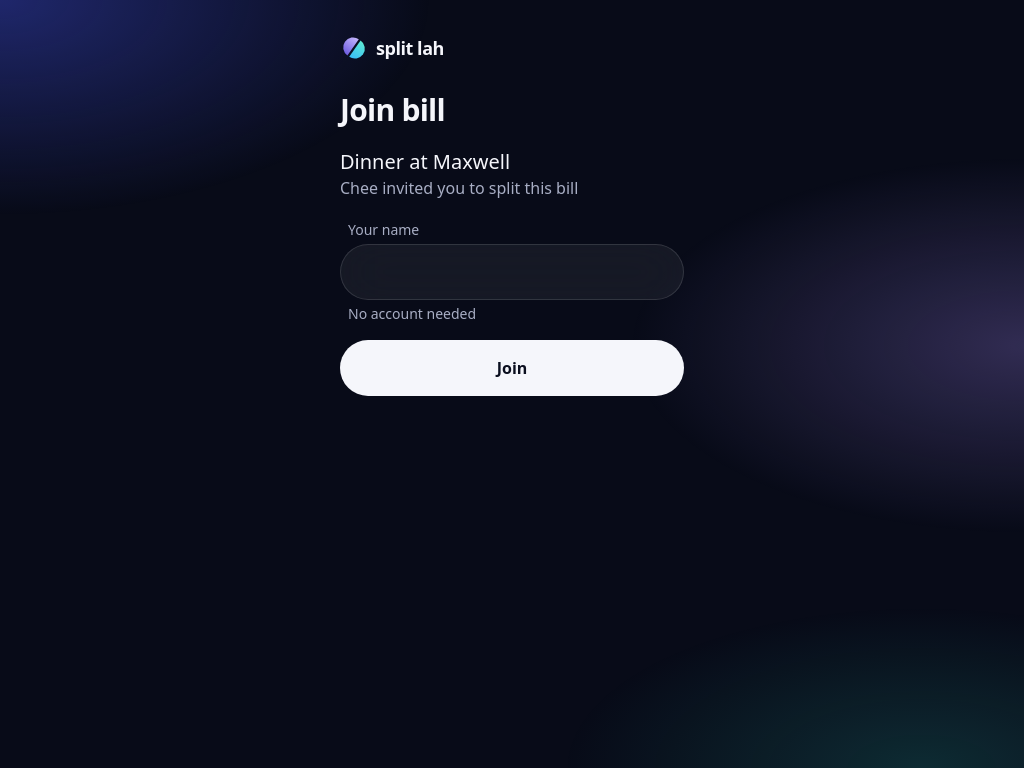
Test: Joining a bill from the link › needs a name, and shows why joining failed
Click the button "Join".
click(512, 368)  # box [340,340,684,396]
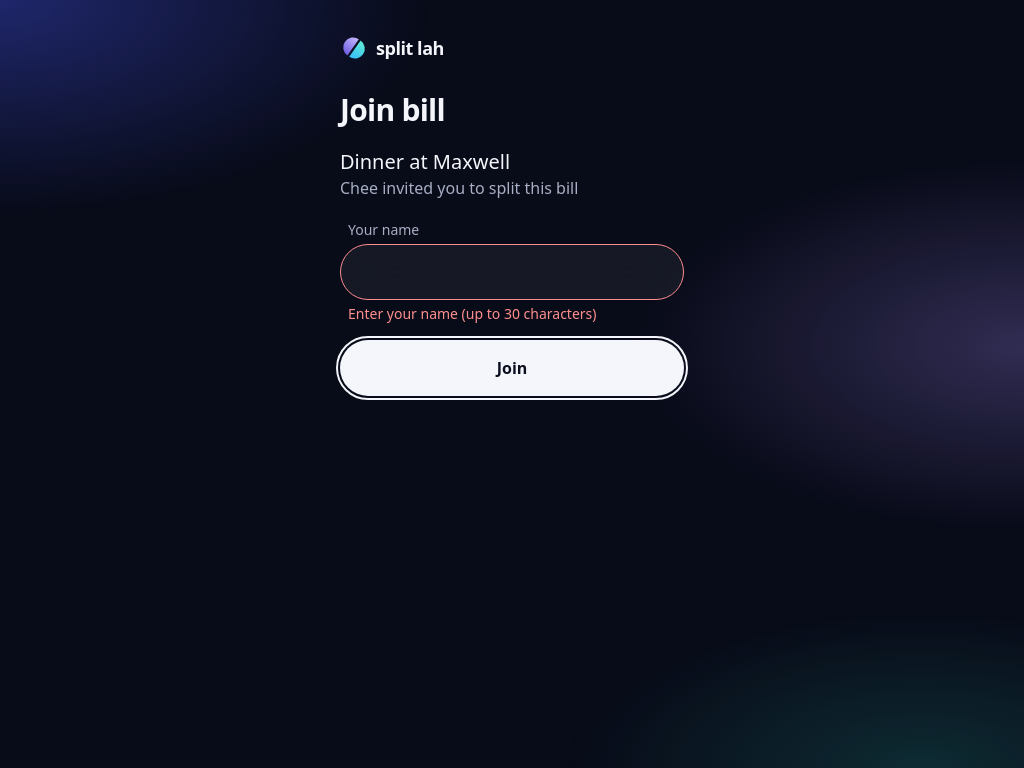
Expected: the text "Enter your name (up to 30 characters)" is shown, [348,304,596,323]
Type "Ali" into the field labelled "Your name".
click(512, 272); type("Ali")  # box [340,244,684,300]
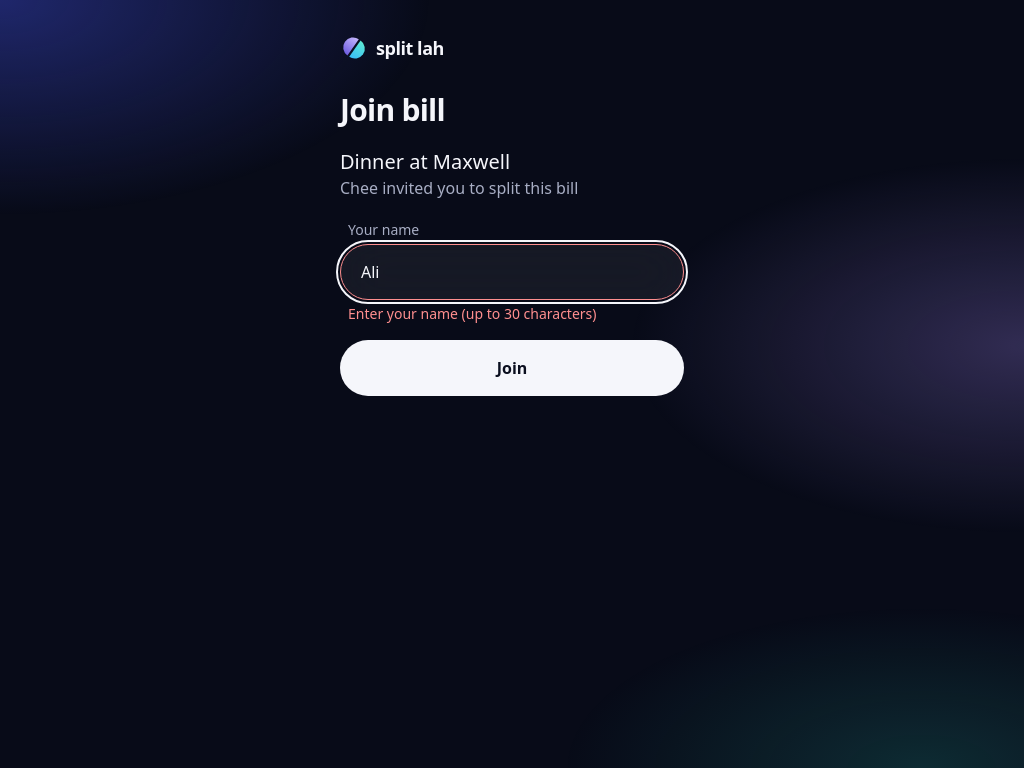
Click the button "Join".
click(512, 368)  # box [340,340,684,396]
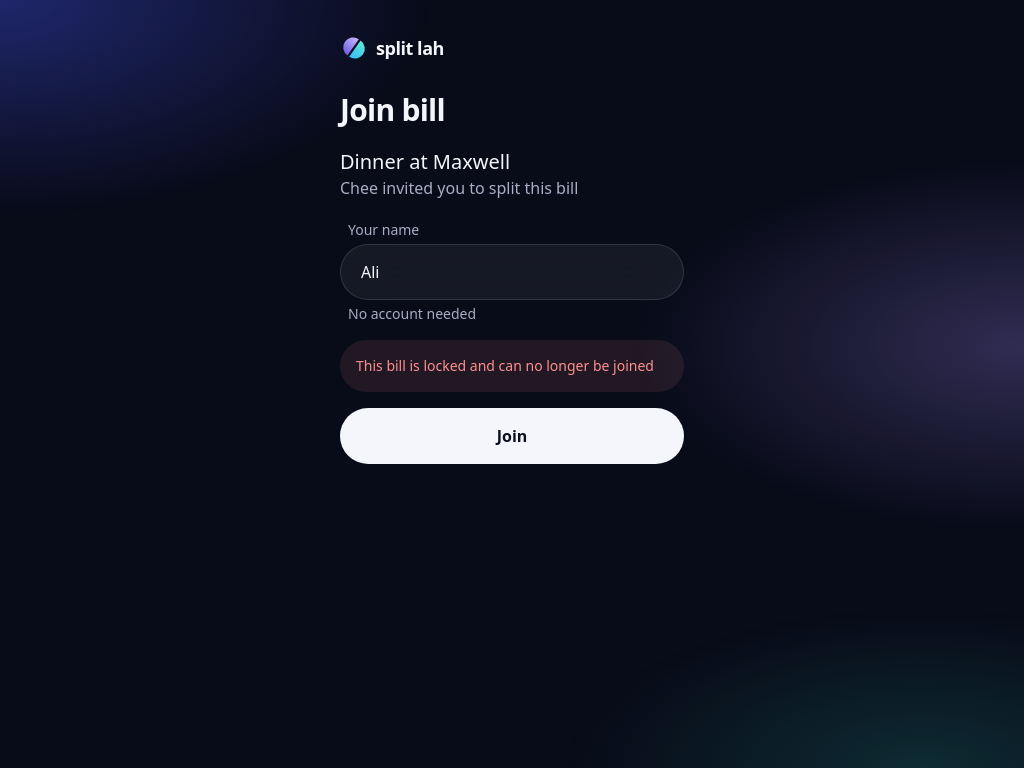
Expected: the button "Join" is enabled, [340,408,684,464]
Expected: the message reads "This bill is locked and can no longer be joined", [356,356,654,375]
